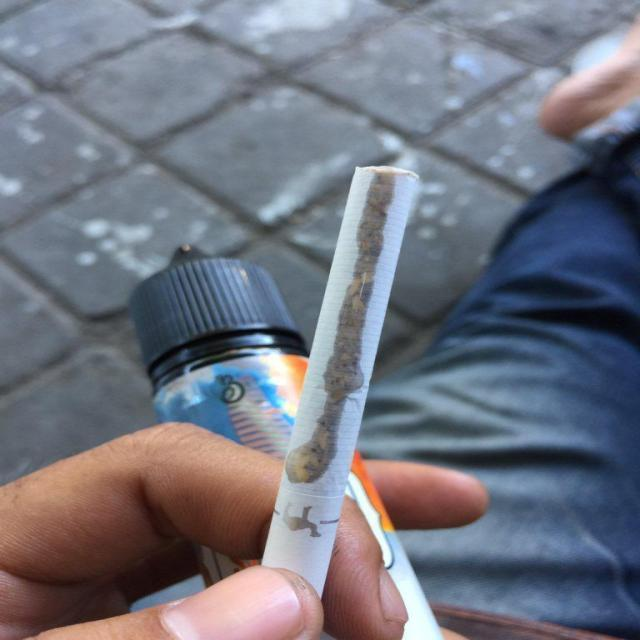rokok: (236, 156, 437, 596)
